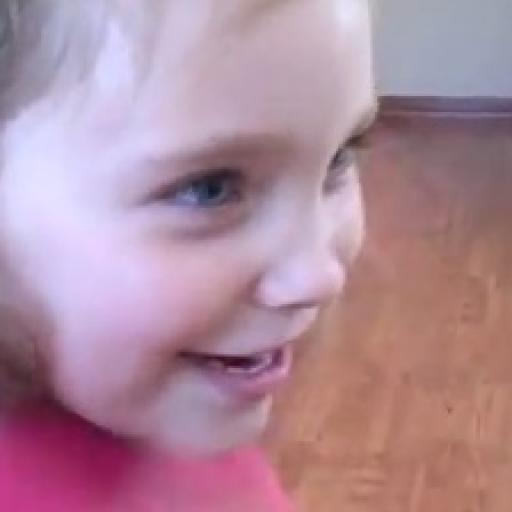Autism: (0, 0, 375, 421)
